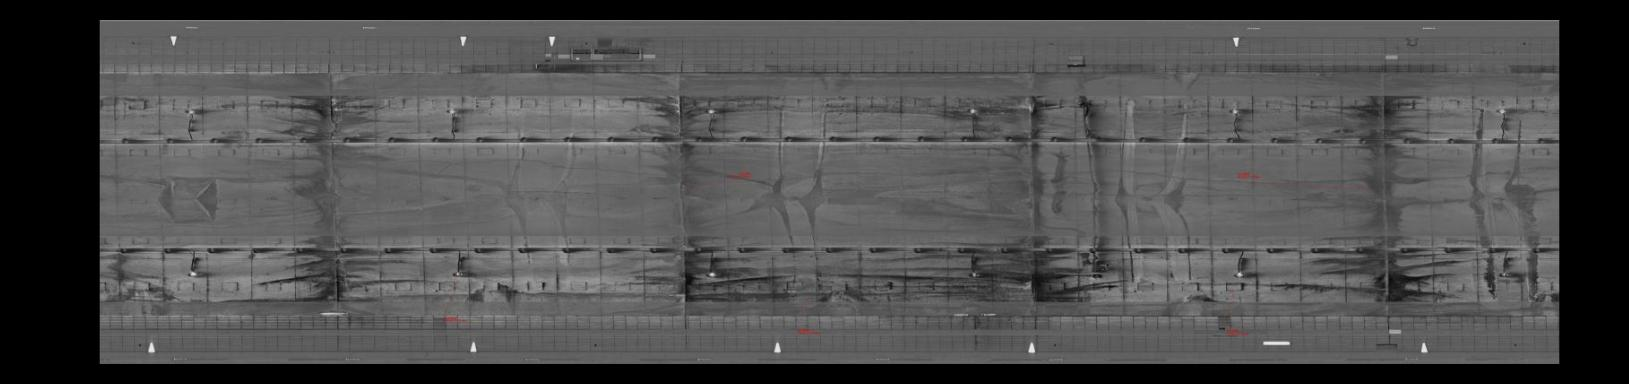light: (1223, 105, 1246, 118), (183, 268, 201, 282), (180, 104, 201, 115), (449, 268, 468, 280), (700, 105, 722, 115), (444, 105, 464, 115), (1231, 268, 1249, 279), (702, 269, 719, 280), (1493, 105, 1510, 116), (1496, 268, 1513, 279), (963, 106, 981, 116), (963, 270, 983, 278)
